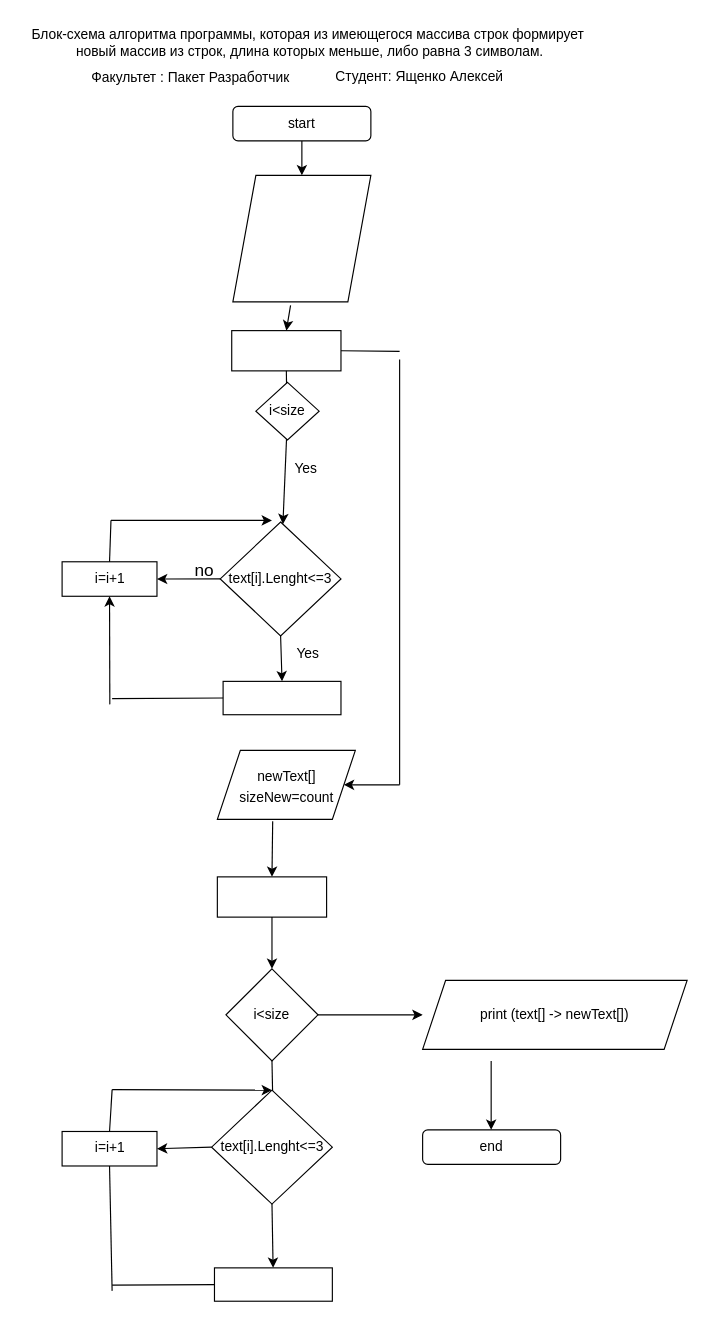
Some shapes in this 707 by 1321 pixel diagram are drawn without their labels. The box of each missing label's shape, as (x1, y1, x2, y2) in pixels:
count=count+1: (222, 680, 341, 715)
i=0 count=1: (231, 329, 341, 371)
i=0 j=0: (216, 876, 327, 917)
j=j+1 newText[j] = text[i]: (213, 1267, 332, 1301)
text [0]=стул text[1]=кон text[2]=да text[3]=место text[4]=нет size=5: (232, 174, 371, 302)
